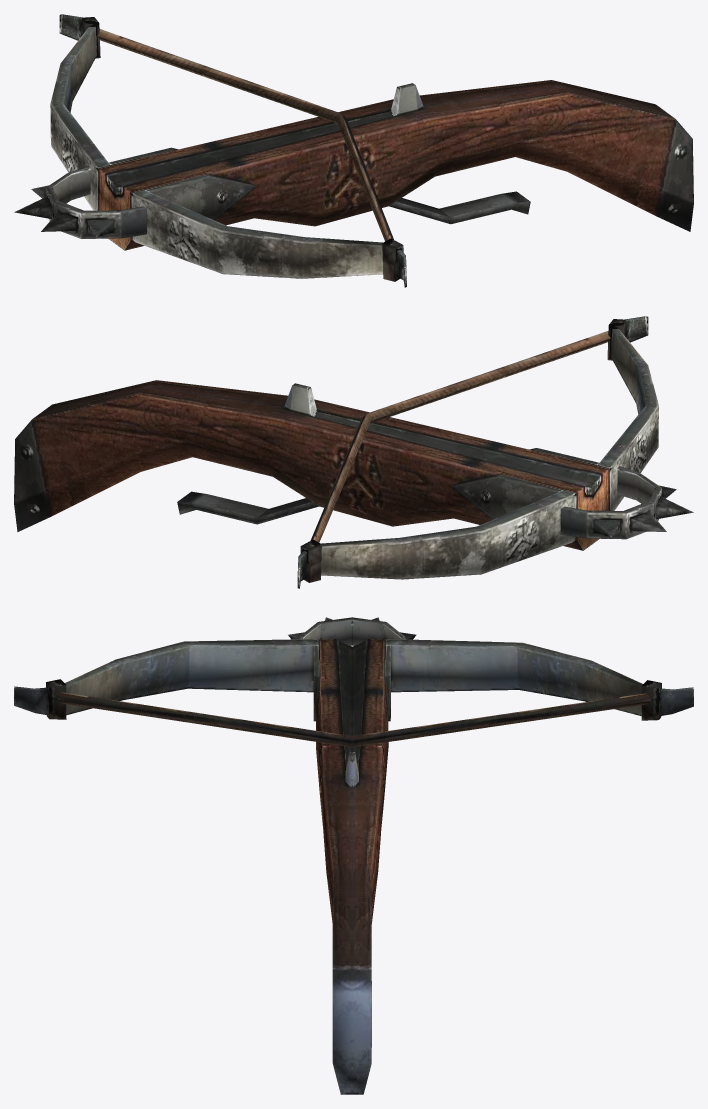
File: KMCROSSBOW04.glb
3 renders of one model, top to bottom at view 1: azimuth 30°, elevation 25°; view 2: azimuth 150°, elevation 25°; view 3: azimuth 270°, elevation 25°, orthographic.
Visible parts, largest first — view 1: KMCROSSBOW04; view 2: KMCROSSBOW04; view 3: KMCROSSBOW04.
Part boxes in pixels (x1,y1,x2,y2): KMCROSSBOW04: (14,14,693,287); KMCROSSBOW04: (14,316,693,588); KMCROSSBOW04: (14,617,693,1094).
Size of the model in its own units: 0.8126 by 0.2478 by 0.7425.
Materials: 1 (1 with a texture image).
